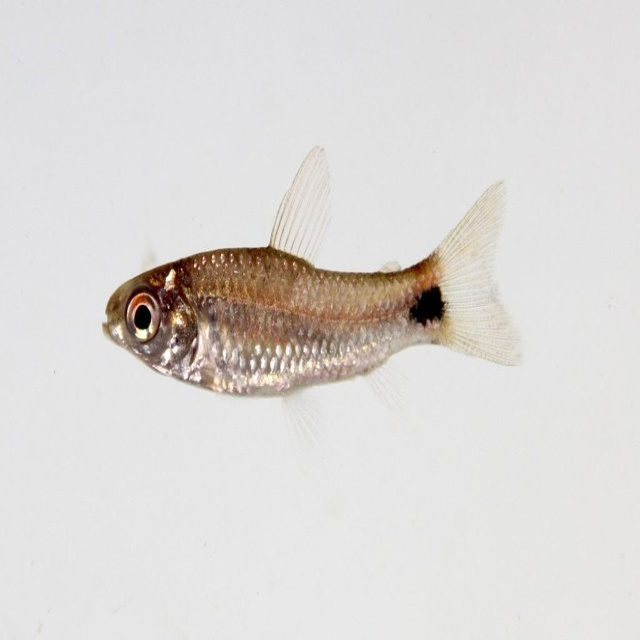Fish: (102, 148, 528, 418)
